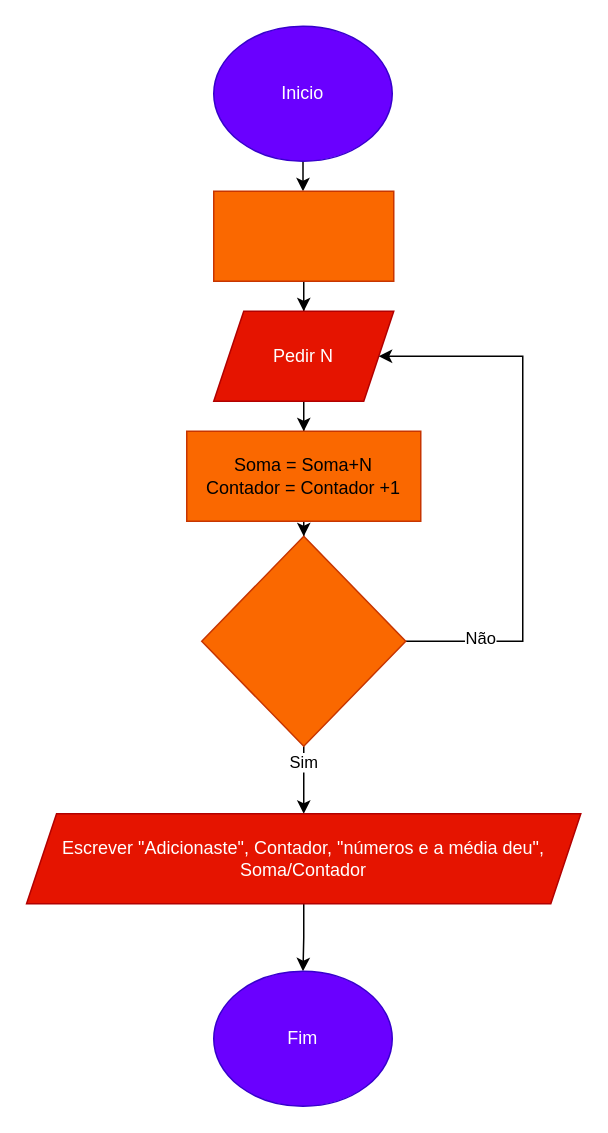
The diagram is 608 pixels wide and 1133 high, and some of its shapes have lost their labels. Here are the shapes that lost their labels. From the top down, the centre of each, then its label:
At point 303,235: "Contador = 0 Soma = 0".
At point 303,640: "Soma > 1000".
